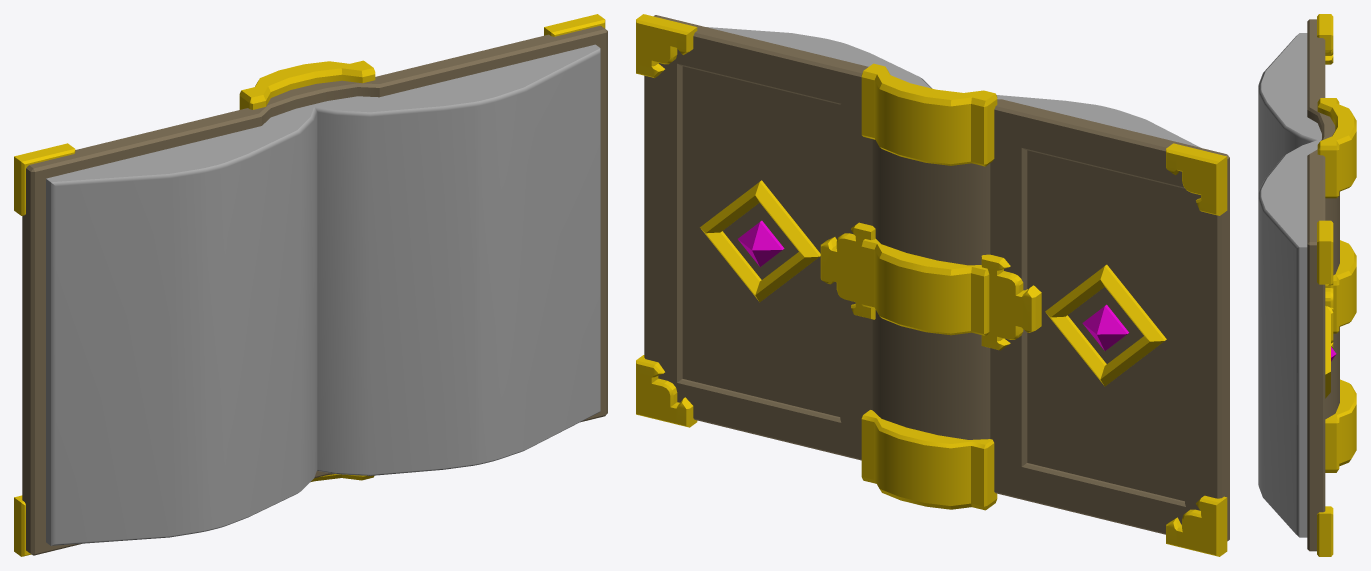
The model's file is The Book Low.fbx.
3 views of the same model, side by side, from view 1: azimuth 30°, elevation 25°; view 2: azimuth 150°, elevation 25°; view 3: azimuth 270°, elevation 25° (orthographic). The views are drawn at different scales.
Visible parts, largest first — view 1: Wizard_Book:group28_pCube31 (×2), Wizard_Book:group28_pCube30 (×2); view 2: Wizard_Book:group28_pCube31 (×2), Wizard_Book:group28_pCube30 (×2), Wizard_Book:group28_pCube32, Wizard_Book:group28_pCube33; view 3: Wizard_Book:group28_pCube30 (×2), Wizard_Book:group28_pCube31 (×2), Wizard_Book:group28_pCube33, Wizard_Book:group28_pCube32.
Part boxes in pixels (<box>): Wizard_Book:group28_pCube31 (×2): <box>14,67,317,556</box>; Wizard_Book:group28_pCube30 (×2): <box>291,14,607,482</box>; Wizard_Book:group28_pCube31 (×2): <box>911,86,1229,556</box>; Wizard_Book:group28_pCube30 (×2): <box>636,14,931,503</box>; Wizard_Book:group28_pCube32: <box>911,257,989,335</box>; Wizard_Book:group28_pCube33: <box>861,238,921,328</box>; Wizard_Book:group28_pCube30 (×2): <box>1258,121,1356,556</box>; Wizard_Book:group28_pCube31 (×2): <box>1258,14,1356,398</box>; Wizard_Book:group28_pCube33: <box>1333,257,1356,333</box>; Wizard_Book:group28_pCube32: <box>1340,240,1356,260</box>.
Size of the model in its own units: 171 by 115 by 31.34.
